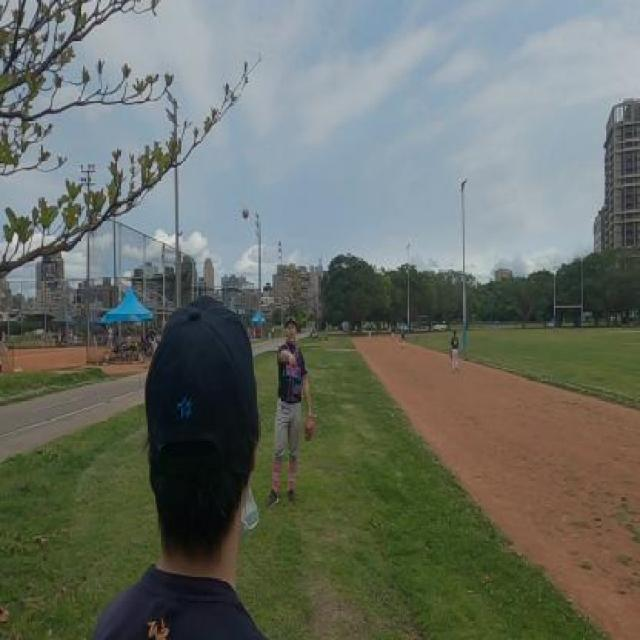baseball: (242, 207, 248, 219)
